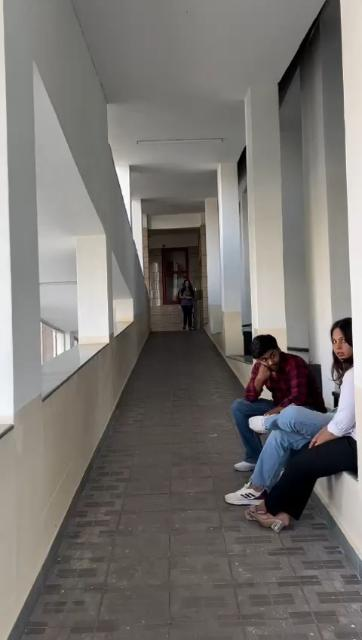floor: (23, 332, 359, 640)
moving-obj: (227, 280, 362, 600)
wall: (0, 312, 152, 640), (0, 0, 40, 414), (305, 0, 362, 279), (74, 22, 110, 356), (239, 90, 279, 328), (210, 147, 238, 317), (124, 172, 148, 342)
